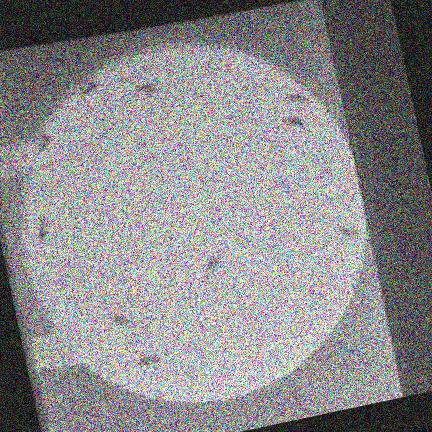fly: (130, 353, 161, 367), (203, 253, 221, 276), (107, 312, 133, 326), (37, 132, 55, 151), (286, 91, 311, 104), (79, 79, 97, 96), (339, 225, 362, 238), (38, 214, 48, 243), (282, 115, 307, 126), (134, 82, 159, 92)
